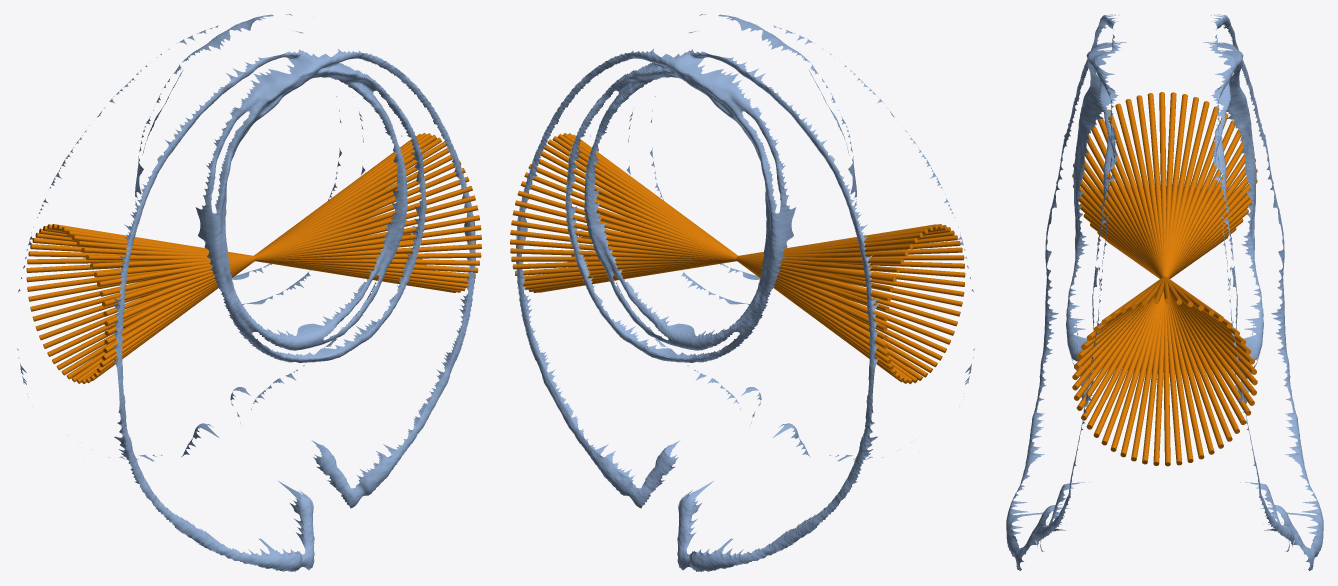
File: A60026426-4_6150-37-520-2386_DigitalTwin.glb
3 views of the same model, side by side, from view 1: azimuth 30°, elevation 25°; view 2: azimuth 150°, elevation 25°; view 3: azimuth 270°, elevation 25° (orthographic). The views are drawn at different scales.
Parts seen in each view (by area): view 1: world; view 2: world; view 3: world.
Part boxes in pixels (x1,y1,x2,y2): world: (17, 14, 481, 571); world: (510, 14, 974, 571); world: (1006, 14, 1323, 570).
Bounding box in the file's own units: 343 × 419 × 221.
